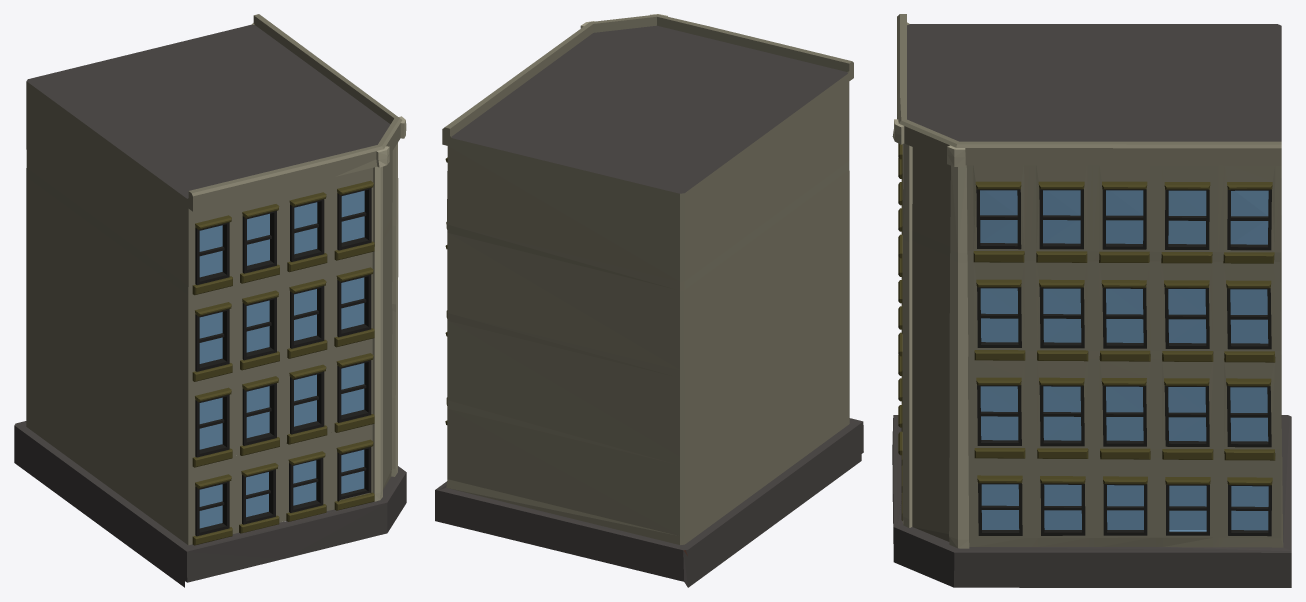
Rendered from Apartment4 secobndary.fbx.
3 views of the same model, side by side, from view 1: azimuth 30°, elevation 25°; view 2: azimuth 150°, elevation 25°; view 3: azimuth 270°, elevation 25° (orthographic). The views are drawn at different scales.
Parts seen in each view (by area): view 1: pasted__pasted__pasted__pCube21; view 2: pasted__pasted__pasted__pCube21; view 3: pasted__pasted__pasted__pCube21.
Boxes of the visible parts, x1,y1,x2,y2 form: pasted__pasted__pasted__pCube21: [14, 14, 406, 587]; pasted__pasted__pasted__pCube21: [435, 14, 863, 587]; pasted__pasted__pasted__pCube21: [892, 14, 1291, 587].
Bounding box in the file's own units: 56.81 × 86.13 × 69.54.
